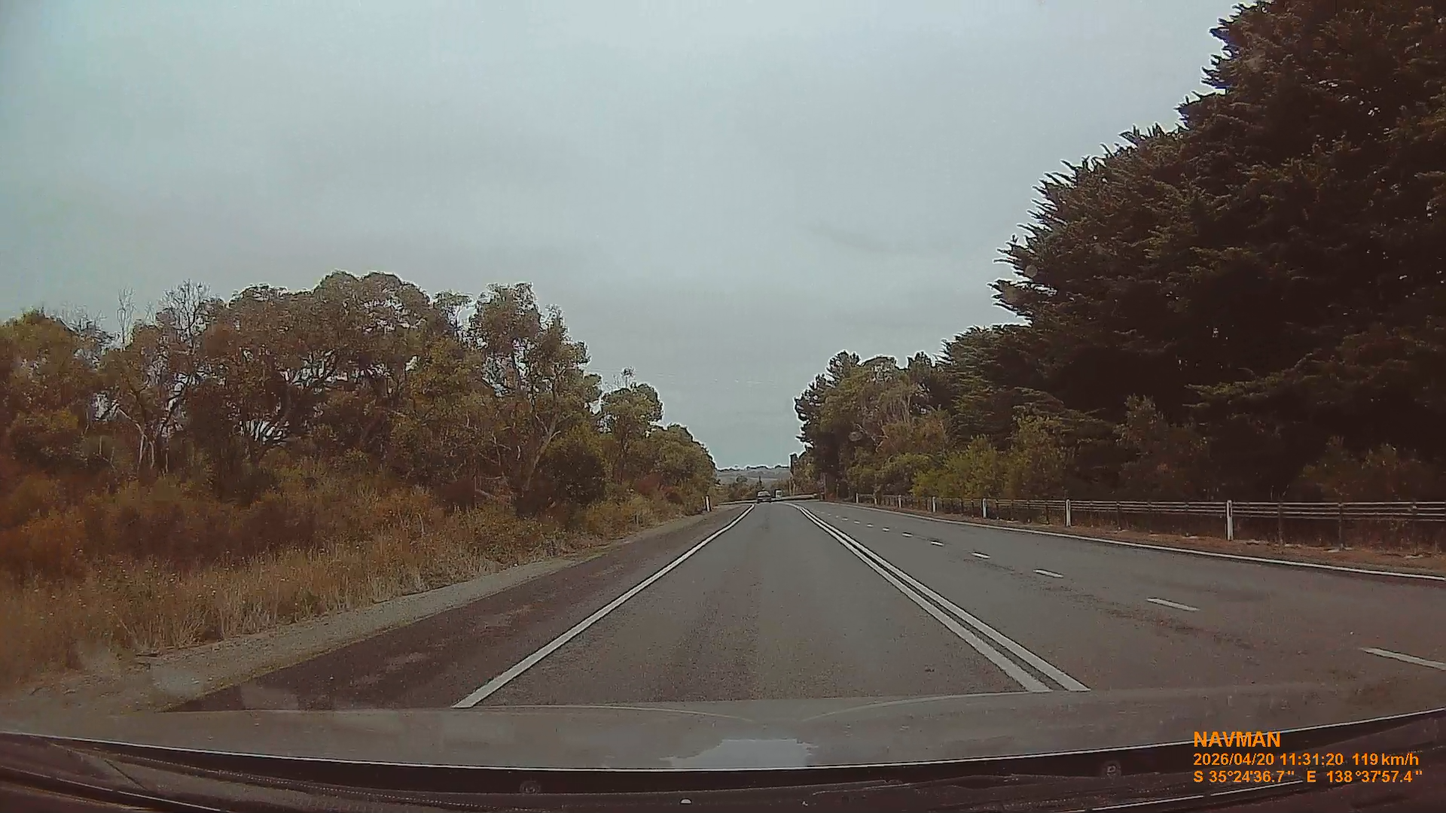fences: (856, 495, 1445, 549)
